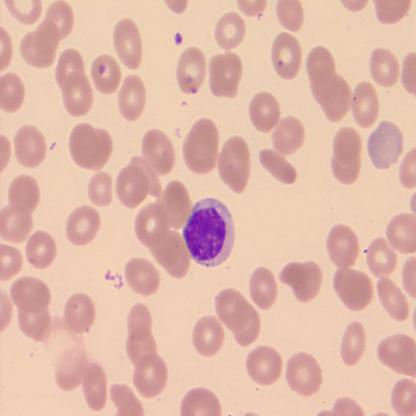Metamyelocyte: (180, 196, 237, 271)
